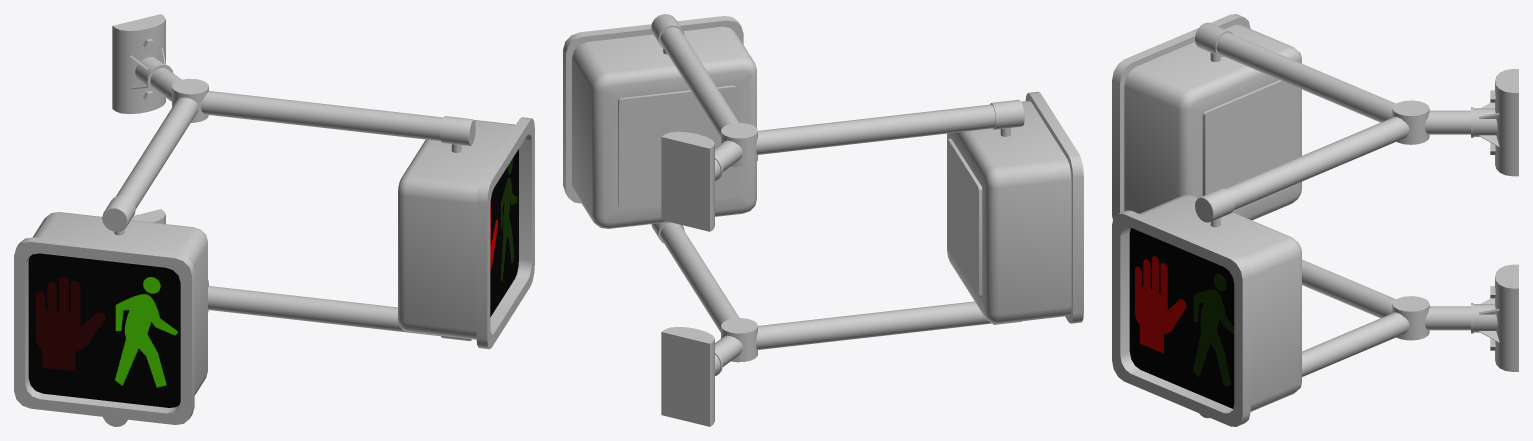
Rendered from pedestrian_traffic_light_02_base_large_yellow.obj.
3 renders of one model, left to right at view 1: azimuth 30°, elevation 25°; view 2: azimuth 150°, elevation 25°; view 3: azimuth 270°, elevation 25°, orthographic.
Visible parts, largest first — view 1: pedestrian_light_traffic_01_yellow_medium_regular_material, pedestrian_traffic_light_02_base_large_yellow_regular_material, pedestrian_light_traffic_01_yellow_medium.001_pedestrian_traffic, pedestrian_light_traffic_01_yellow_medium.001_regular_material, pedestrian_light_traffic_01_yellow_medium_pedestrian_traffic_lig; view 2: pedestrian_traffic_light_02_base_large_yellow_regular_material, pedestrian_light_traffic_01_yellow_medium_regular_material, pedestrian_light_traffic_01_yellow_medium.001_regular_material; view 3: pedestrian_light_traffic_01_yellow_medium.001_regular_material, pedestrian_traffic_light_02_base_large_yellow_regular_material, pedestrian_light_traffic_01_yellow_medium_regular_material, pedestrian_light_traffic_01_yellow_medium_pedestrian_traffic_lig.
Part boxes in pixels (<box>): pedestrian_light_traffic_01_yellow_medium_regular_material: <box>398,117,534,349</box>; pedestrian_traffic_light_02_base_large_yellow_regular_material: <box>102,14,475,426</box>; pedestrian_light_traffic_01_yellow_medium.001_pedestrian_traffic: <box>28,253,180,407</box>; pedestrian_light_traffic_01_yellow_medium.001_regular_material: <box>14,212,207,424</box>; pedestrian_light_traffic_01_yellow_medium_pedestrian_traffic_lig: <box>490,149,518,316</box>; pedestrian_traffic_light_02_base_large_yellow_regular_material: <box>651,14,1024,426</box>; pedestrian_light_traffic_01_yellow_medium_regular_material: <box>563,16,756,228</box>; pedestrian_light_traffic_01_yellow_medium.001_regular_material: <box>947,91,1083,323</box>; pedestrian_light_traffic_01_yellow_medium.001_regular_material: <box>1112,14,1301,220</box>; pedestrian_traffic_light_02_base_large_yellow_regular_material: <box>1195,22,1518,418</box>; pedestrian_light_traffic_01_yellow_medium_regular_material: <box>1112,195,1301,426</box>; pedestrian_light_traffic_01_yellow_medium_pedestrian_traffic_lig: <box>1129,228,1234,408</box>.
Size of the model in its own units: 1.03 by 0.5247 by 0.6933.
